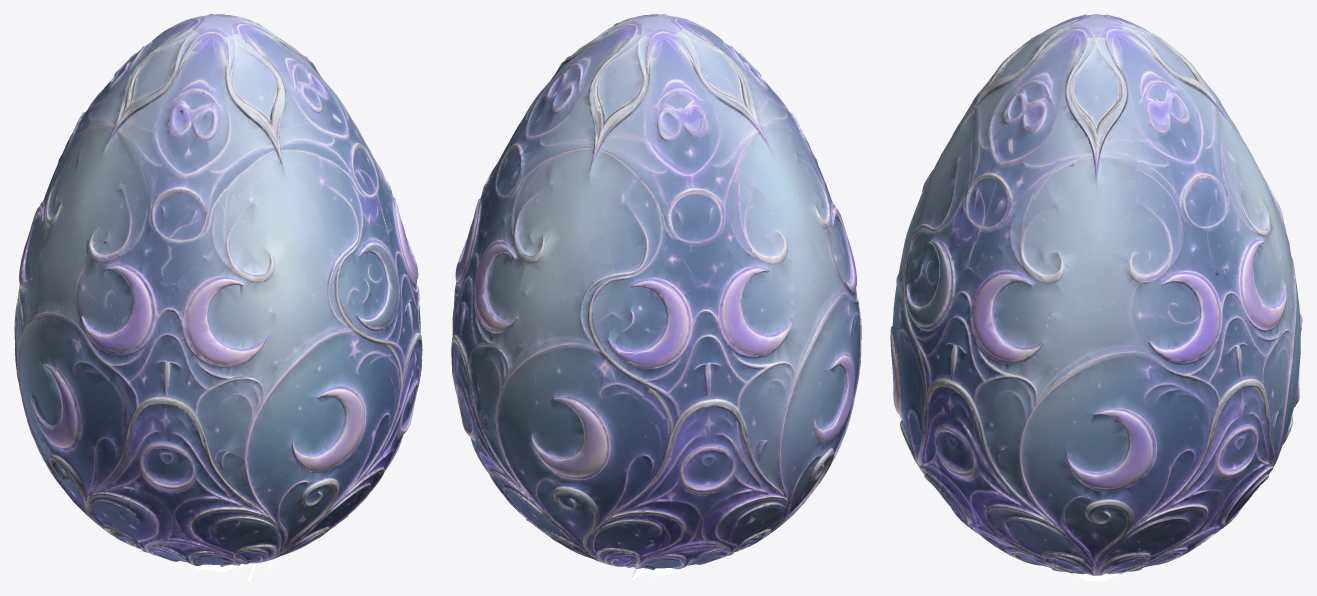
Rendered from moon-egg.glb.
3 renders of one model, left to right at view 1: azimuth 30°, elevation 25°; view 2: azimuth 150°, elevation 25°; view 3: azimuth 270°, elevation 25°, orthographic.
Visible parts, largest first — view 1: MoonEgg; view 2: MoonEgg; view 3: MoonEgg.
Part boxes in pixels (bbox=[...]): MoonEgg: bbox=[14, 14, 422, 566]; MoonEgg: bbox=[451, 14, 861, 581]; MoonEgg: bbox=[890, 14, 1302, 575].
Size of the model in its own units: 0.3356 by 0.4977 by 0.3357.
Materials: 4 (1 with a texture image).
